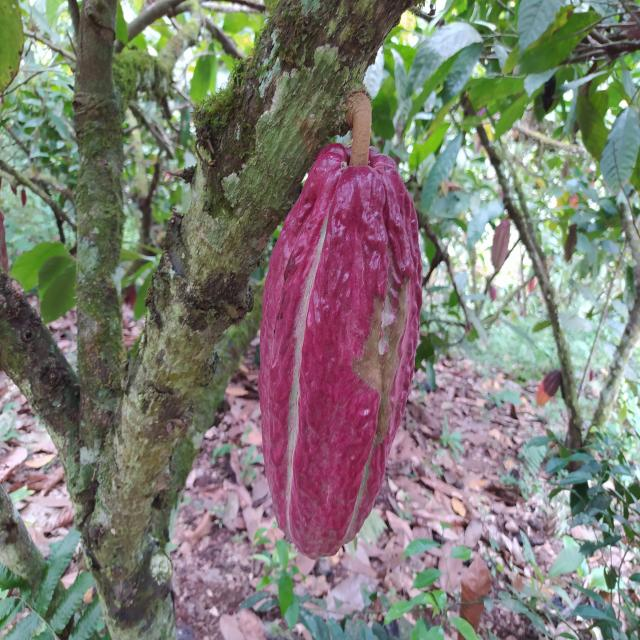Fitoftora: (534, 370, 562, 405)
Sana: (264, 145, 422, 558), (491, 217, 511, 272)
